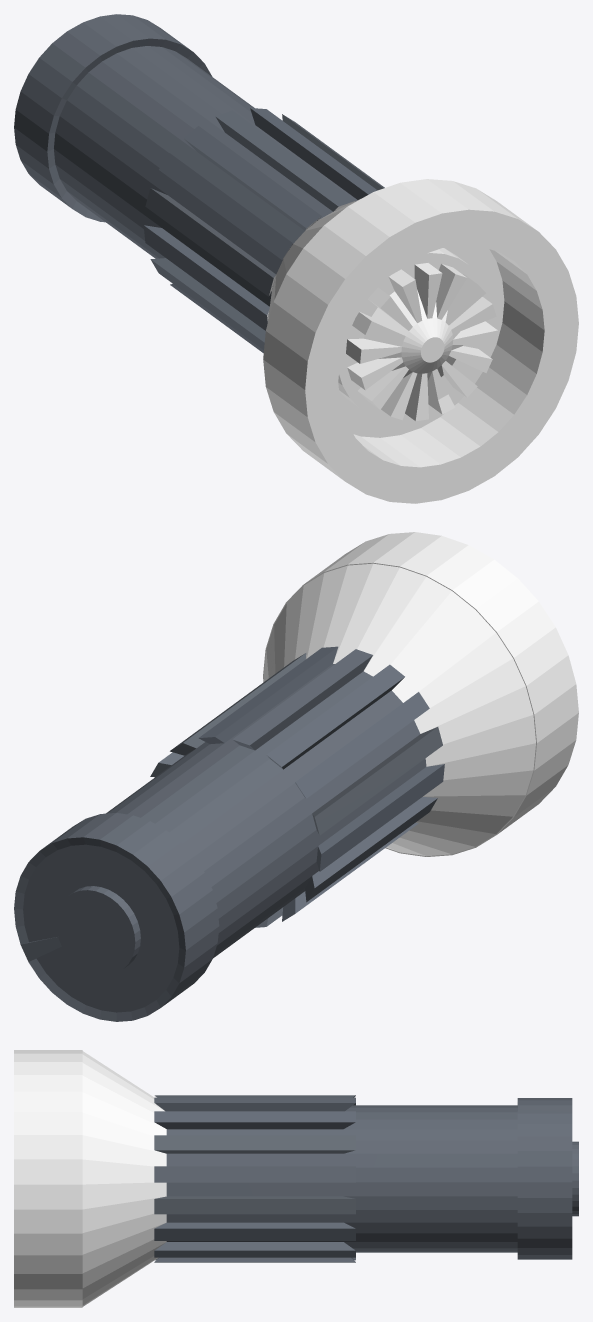
Rendered from FlashLight Blender.glb.
3 renders of one model, top to bottom at view 1: azimuth 30°, elevation 25°; view 2: azimuth 150°, elevation 25°; view 3: azimuth 270°, elevation 25°, orthographic. The views are drawn at different scales.
Visible parts, largest first — view 1: Head; view 2: Head; view 3: Head.
Part boxes in pixels (<box>): Head: <box>14,14,578,503</box>; Head: <box>14,532,578,1021</box>; Head: <box>14,1050,578,1307</box>.
Bounding box in the file's own units: 1.01 × 1.01 × 2.21.
2 materials, 1 textured.
